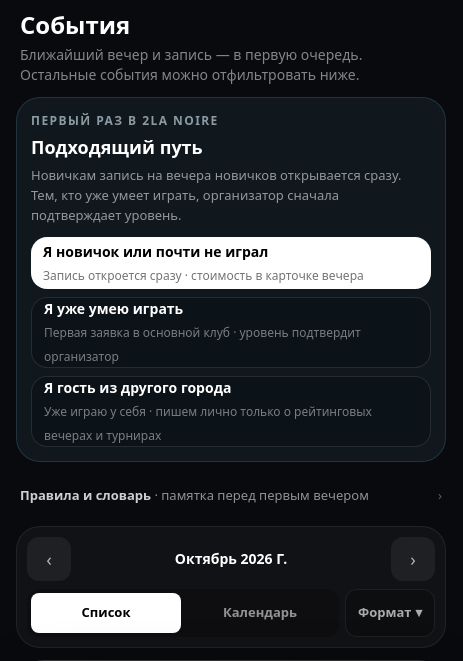
PlayerEventsCalendar › starts the novice path without silently booking the nearest evening
The width and height of the screenshot is (463, 661).
What coordinates should you click on to do the following:
click the button "Я новичок или почти не играл"
I would click on:
 (231, 263)
Its box is [31,237,431,289].
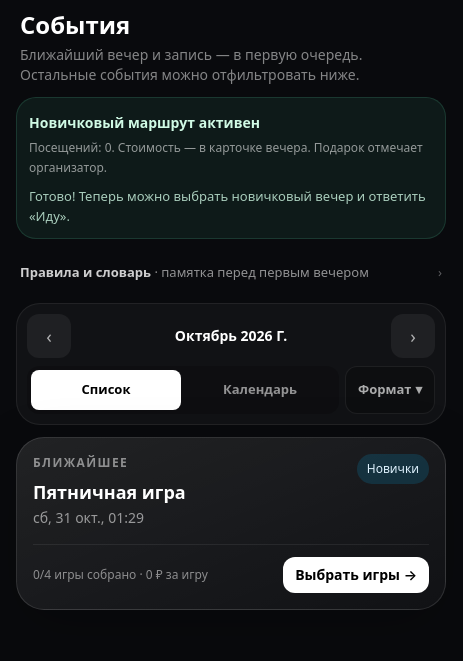
Expected: the text "Готово! Теперь можно выбрать новичковый вечер и ответить «Иду»." is shown, [29,186,433,226]
